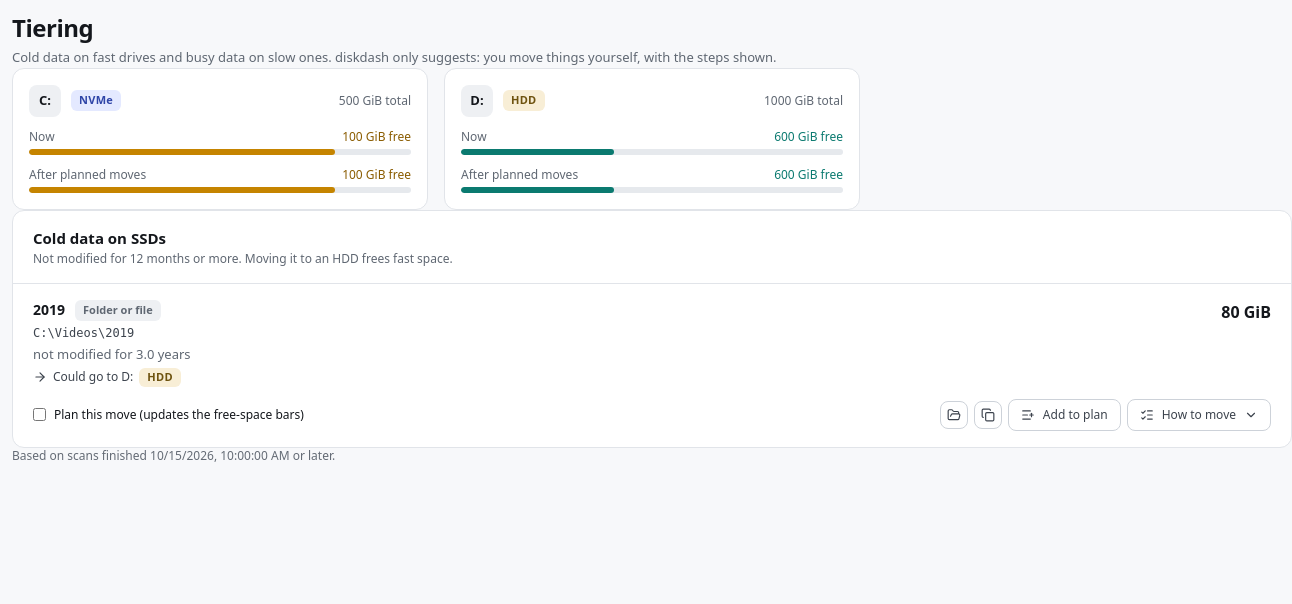
Test: TieringPage › lists a cold suggestion with its target, and copyable manual instructions that are never run
expect the text "not modified for 3.0 years" is shown: met, box left=33, top=344, right=191, bottom=362
expect the text "Could go to D: HDD" is shown: met, box left=33, top=368, right=181, bottom=387
Step 1. Click the button "How to move" → (1199,415), box left=1127, top=399, right=1271, bottom=431
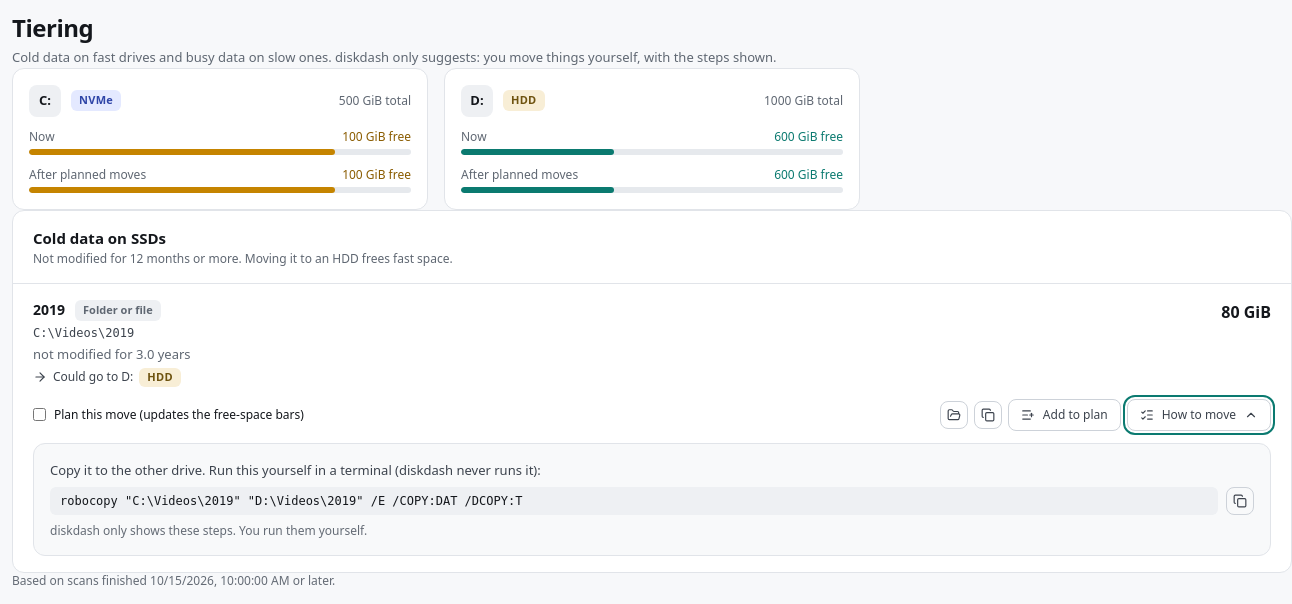
expect the button named "Copy command robocopy" is shown: met, box left=1226, top=487, right=1254, bottom=515
expect the text "diskdash only shows these steps. You run them yourself." is shown: met, box left=50, top=522, right=367, bottom=539
